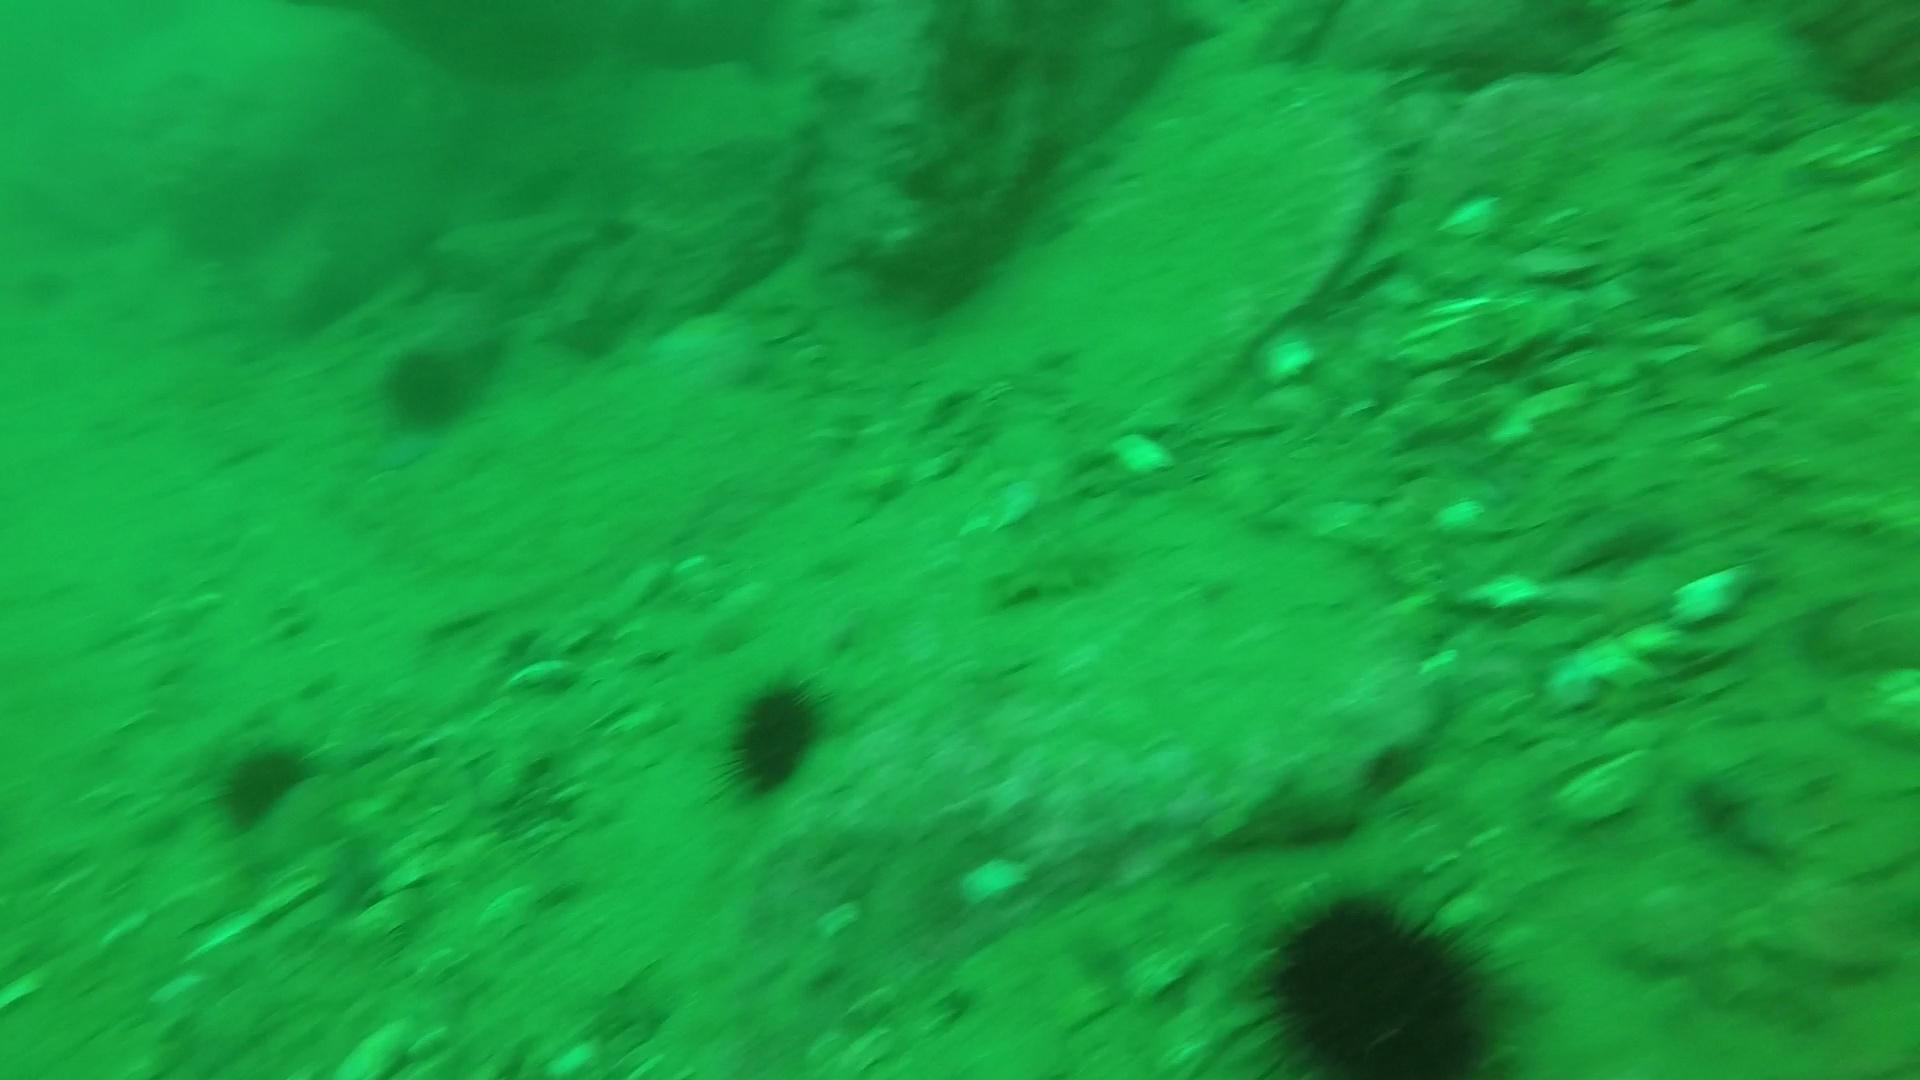urchin: (1247, 866, 1542, 1080), (708, 659, 847, 814), (382, 338, 477, 439), (214, 746, 338, 822)
